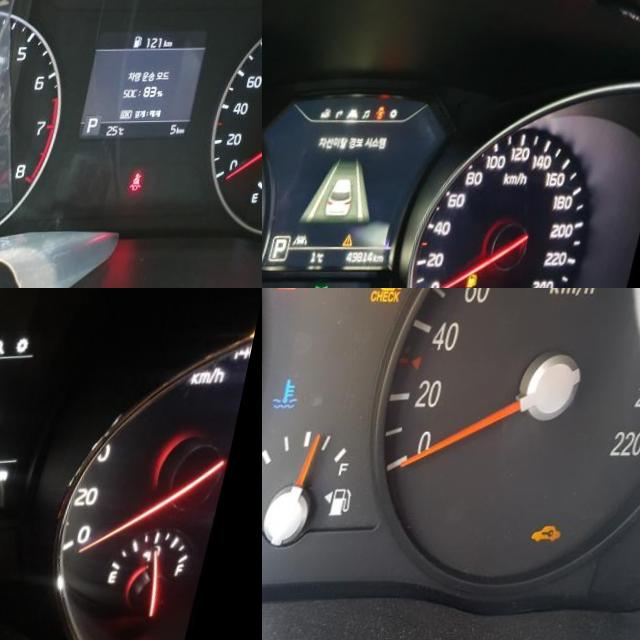Low fuel level: (485, 274, 496, 288)
SideLamp: (331, 284, 348, 288)
